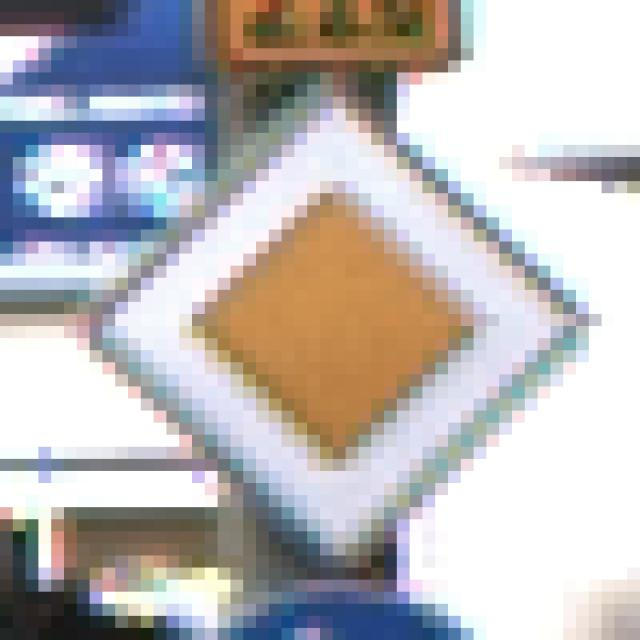Main Road: (65, 62, 577, 569)
